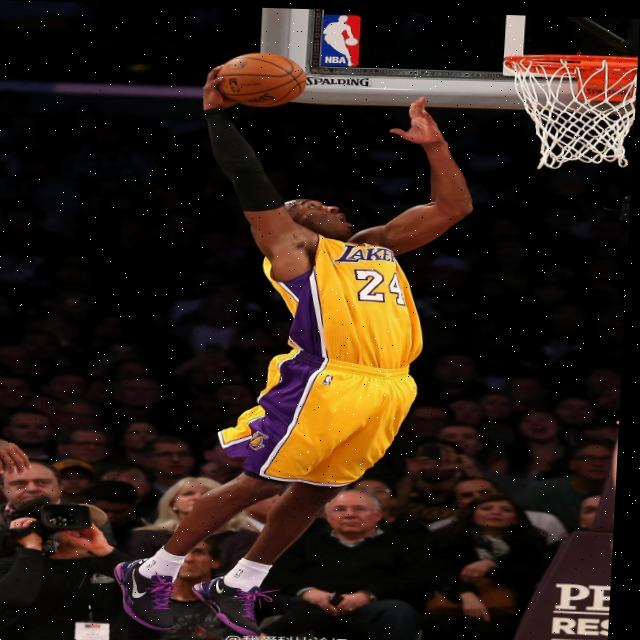basketball: (218, 51, 306, 110)
hoop: (494, 52, 638, 173)
